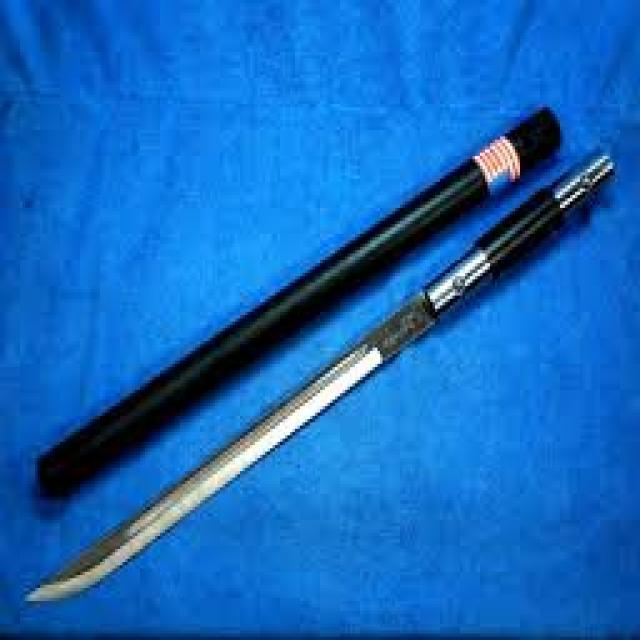long sword: (22, 150, 616, 608)
